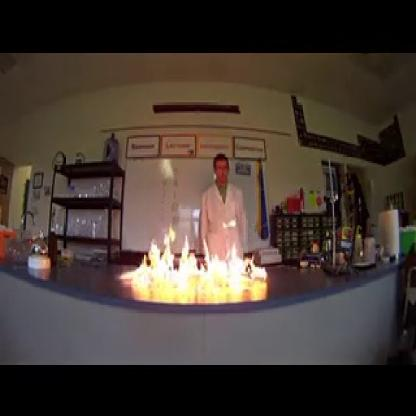fire: (117, 224, 270, 284)
